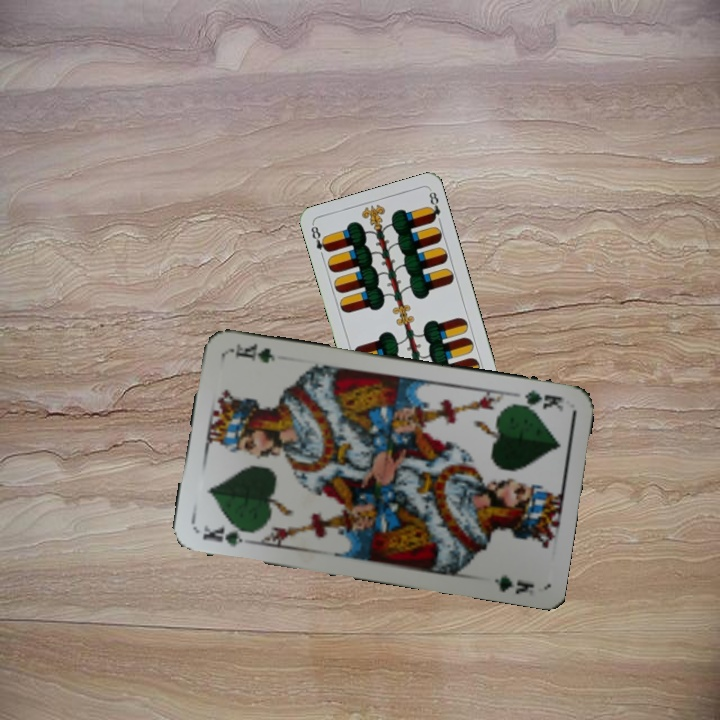E8: (307, 222, 331, 254)
GK: (509, 385, 566, 414), (198, 521, 255, 550)
